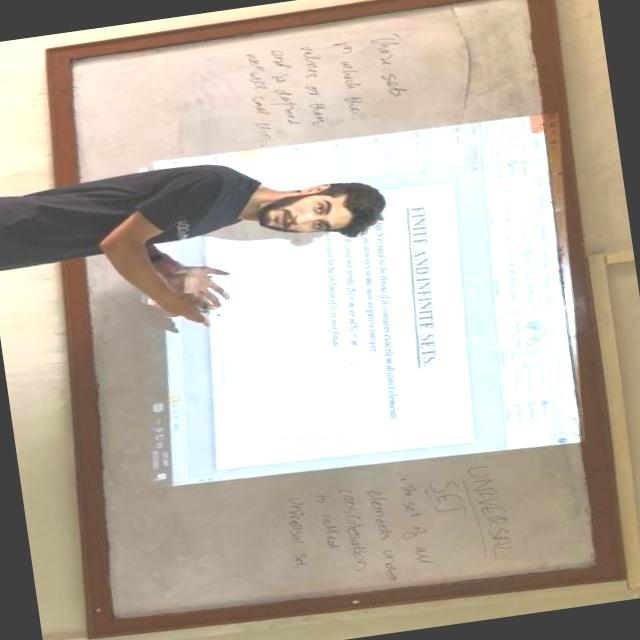Instructor: (0, 134, 396, 283)
Slide: (123, 113, 585, 491)
White-board: (63, 0, 614, 628)
